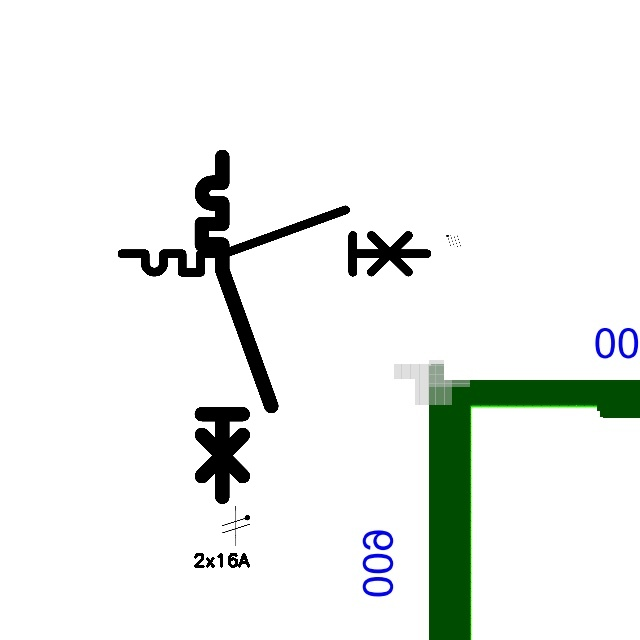interruptor_termomagnetico: (193, 148, 280, 505), (114, 202, 435, 280)
